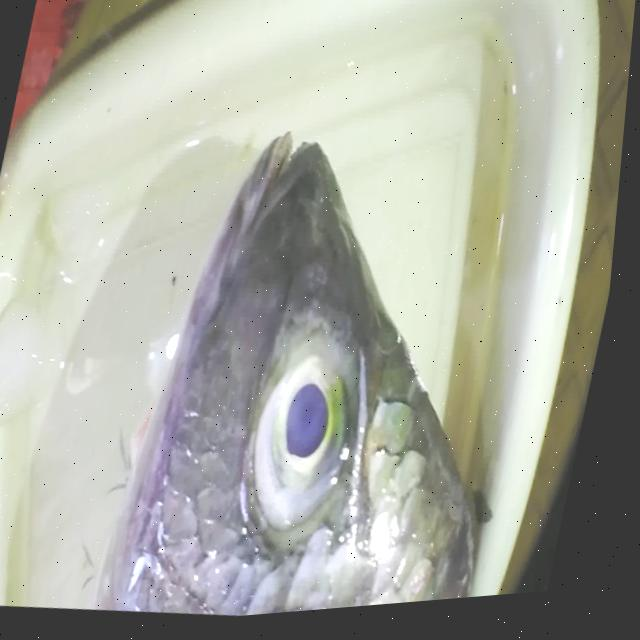Fresh: (221, 291, 387, 542)
